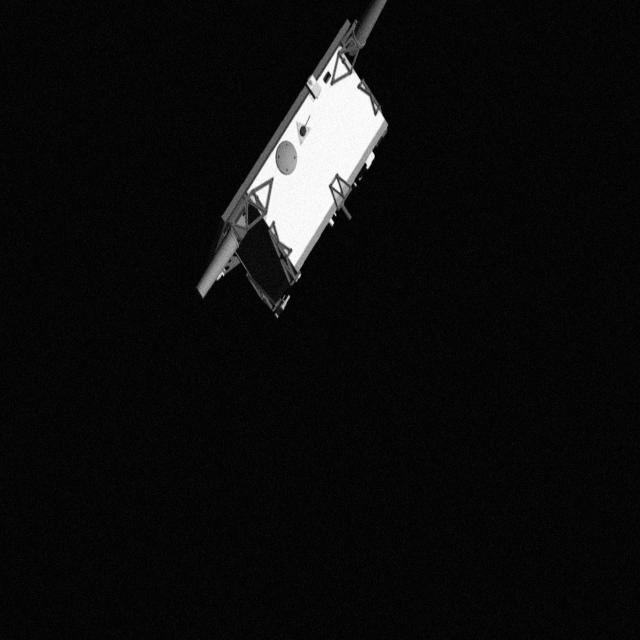medium_debris: (192, 0, 412, 322)
